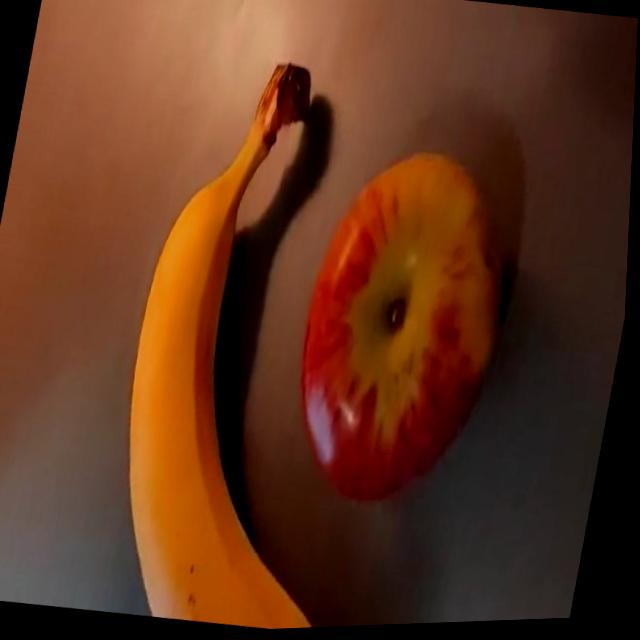Apple: (279, 138, 533, 521)
Banana: (95, 46, 423, 637)
